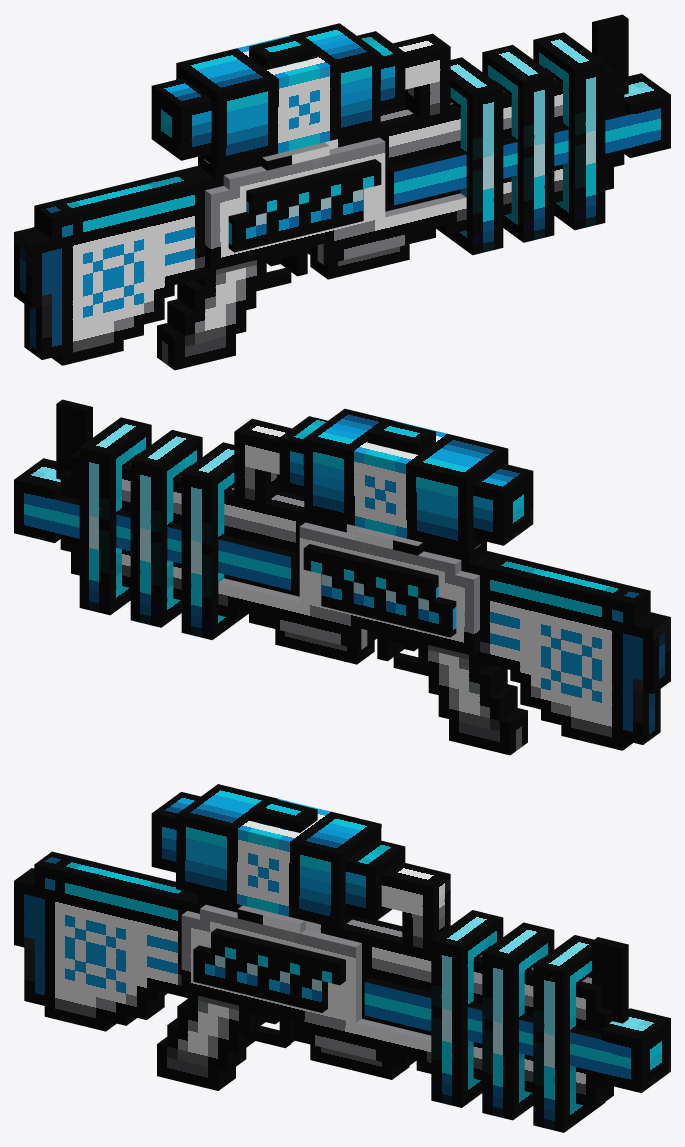
3 renders of one model, top to bottom at view 1: azimuth 30°, elevation 25°; view 2: azimuth 150°, elevation 25°; view 3: azimuth 330°, elevation 25°, orthographic.
Parts seen in each view (by area): view 1: FreezGun_Mesh_0_4; view 2: FreezGun_Mesh_0_4; view 3: FreezGun_Mesh_0_4.
Part boxes in pixels (x1,y1,x2,y2): FreezGun_Mesh_0_4: (14, 14, 670, 370); FreezGun_Mesh_0_4: (14, 399, 670, 755); FreezGun_Mesh_0_4: (14, 784, 670, 1132).
Bounding box in the file's own units: 1.24 × 0.54 × 0.141.
Materials: 1 (1 with a texture image).
